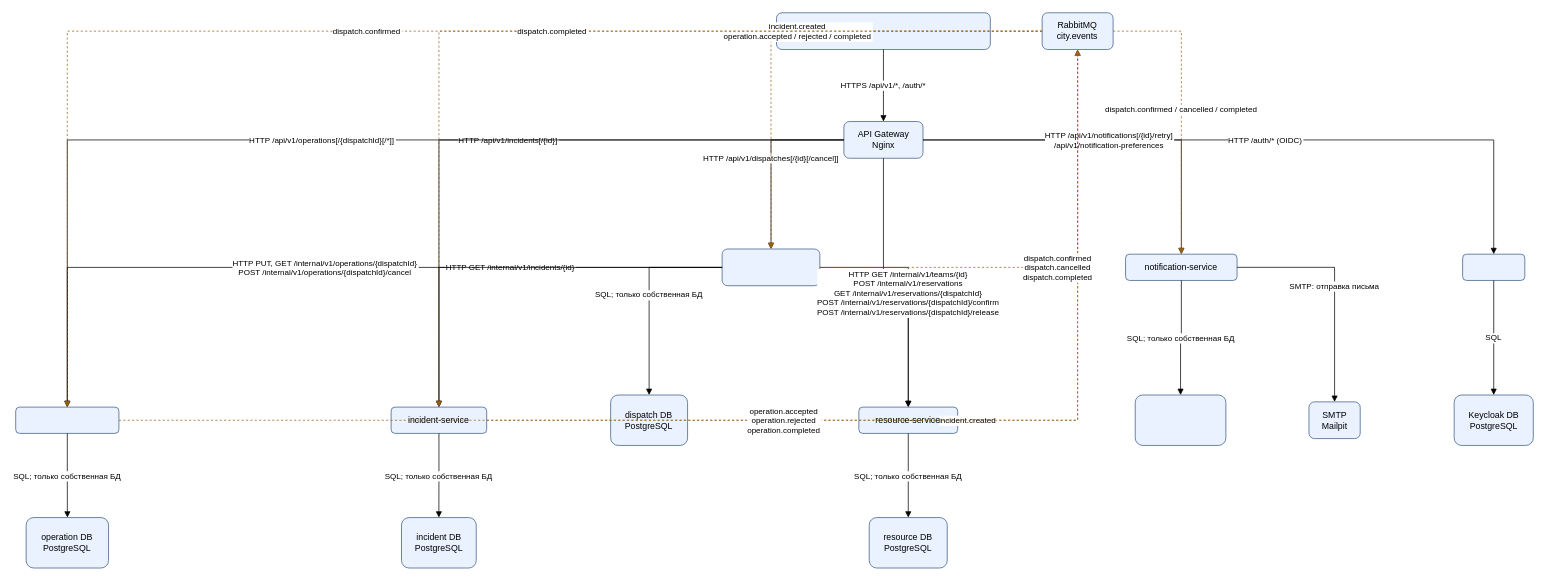
Some shapes in this 1546 by 581 pixel diagram are drawn without their labels. Here are the shapes that lost their labels. From the top down, the box of each, then its label:
(776, 12, 990, 49): Веб-клиент Диспетчер / Бригада / Администратор
(721, 248, 820, 286): dispatch-service Saga worker
(1462, 253, 1525, 280): Keycloak
(15, 406, 119, 433): operation-service
(1134, 394, 1226, 445): notification DB PostgreSQL
